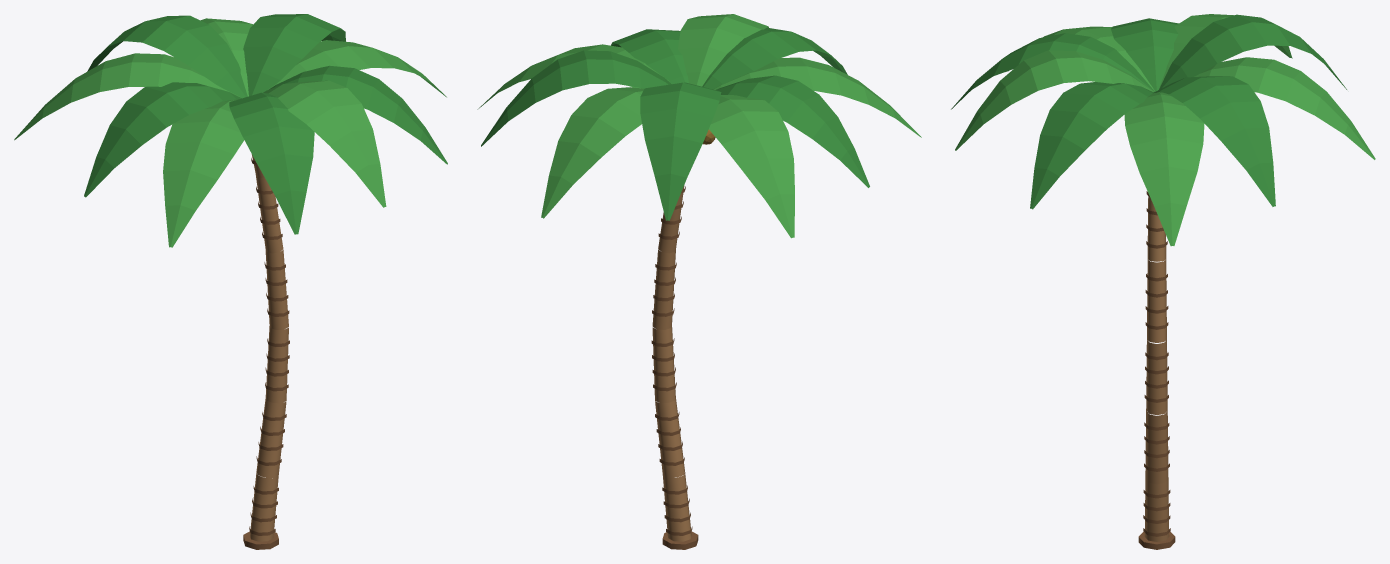
File: arvore-palmeira.glb
3 views of the same model, side by side, from view 1: azimuth 30°, elevation 25°; view 2: azimuth 150°, elevation 25°; view 3: azimuth 270°, elevation 25° (orthographic).
Visible parts, largest first — view 1: Folhas, Tronco; view 2: Folhas, Tronco; view 3: Folhas, Tronco.
Boxes of the visible parts, <box> form: Folhas: <box>14,14,447,247</box>; Tronco: <box>243,154,289,549</box>; Folhas: <box>477,14,921,238</box>; Tronco: <box>651,185,698,549</box>; Folhas: <box>951,14,1375,246</box>; Tronco: <box>1138,191,1175,549</box>.
Bounding box in the file's own units: 7.08 × 8.95 × 6.93.
